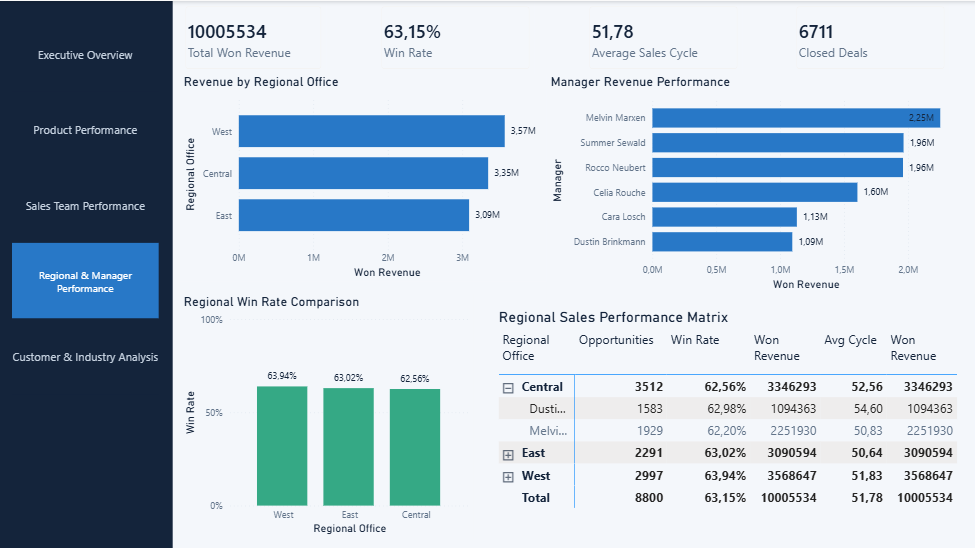

What the dashboard file says about the page in this screenshot:
{"tool":"powerbi","page":{"name":"Regional & Manager Performance","canvas":[1280,720],"ordinal":3},"visuals":[{"type":"shape","box":[0,0,230,720],"z":0},{"type":"pageNavigator","box":[20,20,192,496],"z":1000},{"type":"cardVisual","fields":{"Data":["sales_pipeline.Overall Win Rate"]},"box":[496,0,208,96],"z":2000},{"type":"cardVisual","fields":{"Data":["sales_pipeline.Total Won Revenue"]},"box":[240,0,192,96],"z":3000},{"type":"cardVisual","fields":{"Data":["sales_pipeline.Closed Deals by Stage"]},"box":[1040,0,208,96],"z":4000},{"type":"cardVisual","fields":{"Data":["sales_pipeline.Average Sales Cycle"]},"box":[768,0,208,96],"z":5000},{"type":"clusteredBarChart","title":"Revenue by Regional Office","fields":{"Category":["sales_teams.regional_office"],"Y":["sales_pipeline.Total Won Revenue"]},"box":[240,96,480,272],"z":6000},{"type":"clusteredColumnChart","title":"Regional Win Rate Comparison","fields":{"Category":["sales_teams.regional_office"],"Y":["sales_pipeline.Overall Win Rate"]},"box":[240,384,384,320],"z":7000},{"type":"clusteredBarChart","title":"Manager Revenue Performance","fields":{"Category":["sales_teams.manager"],"Y":["sales_pipeline.Total Won Revenue"]},"box":[720,96,560,288],"z":8000},{"type":"pivotTable","title":"Regional Sales Performance Matrix","fields":{"Rows":["sales_teams.regional_office","sales_teams.manager"],"Values":["sales_pipeline.Total Opportunities","sales_pipeline.Overall Win Rate","sales_pipeline.Total Won Revenue","sales_pipeline.Average Sales Cycle","sales_pipeline.Total Won Revenue"]},"box":[656,400,624,288],"z":9000}]}

Visuals, with their boxes on the page's 1280x720 design canvas (x1, y1, x2, y2). These are canvas units, not pixel positions in the 975x548 screenshot, which may show the page scaled, cropped or inside an application window:
shape: (0, 0, 230, 720)
pageNavigator: (20, 20, 212, 516)
cardVisual - sales_pipeline.Overall Win Rate: (496, 0, 704, 96)
cardVisual - sales_pipeline.Total Won Revenue: (240, 0, 432, 96)
cardVisual - sales_pipeline.Closed Deals by Stage: (1040, 0, 1248, 96)
cardVisual - sales_pipeline.Average Sales Cycle: (768, 0, 976, 96)
"Revenue by Regional Office" clusteredBarChart: (240, 96, 720, 368)
"Regional Win Rate Comparison" clusteredColumnChart: (240, 384, 624, 704)
"Manager Revenue Performance" clusteredBarChart: (720, 96, 1280, 384)
"Regional Sales Performance Matrix" pivotTable: (656, 400, 1280, 688)
